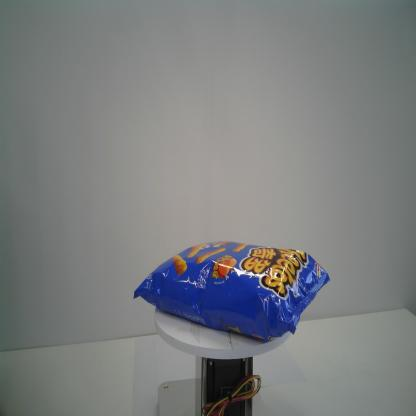Puffed Food: (133, 236, 330, 346)
